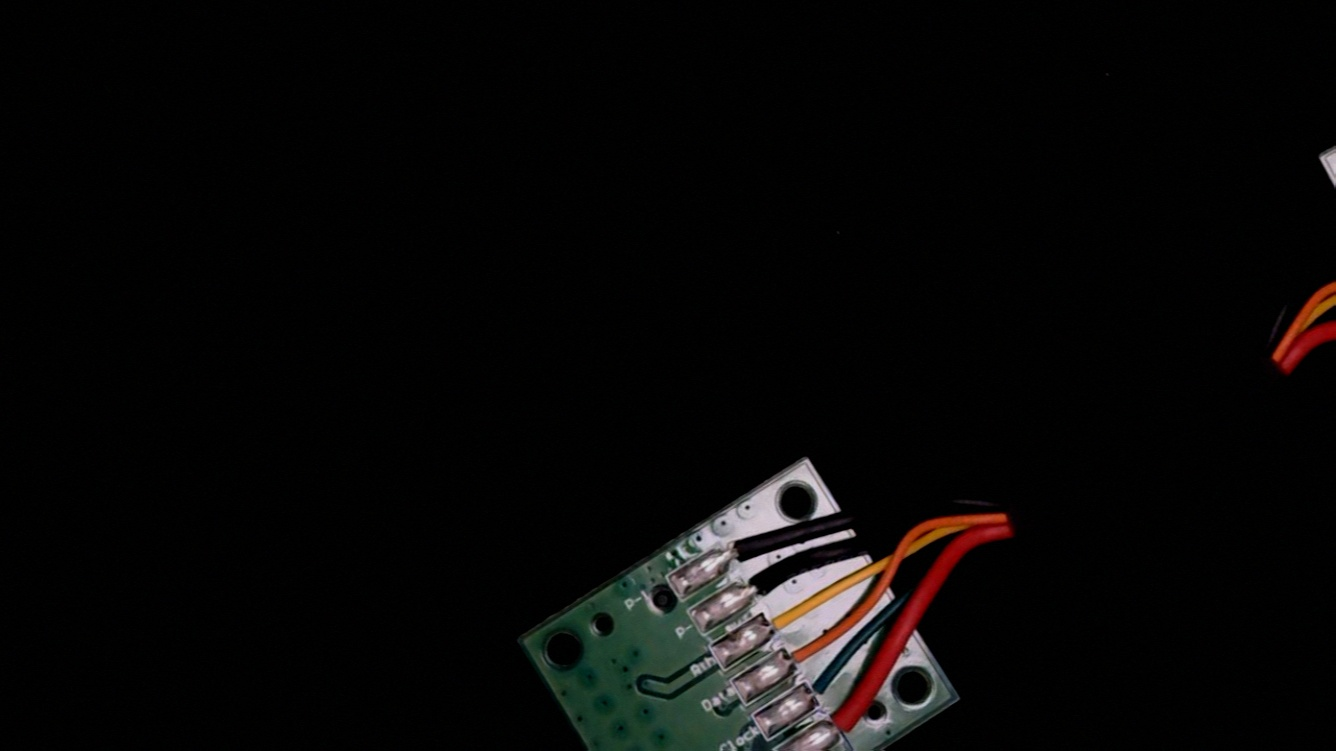Black: (725, 552, 803, 616)
Black1: (703, 517, 781, 582)
Green: (787, 656, 861, 720)
Orange: (762, 620, 844, 686)
Red: (810, 688, 891, 751)
Yellow: (743, 584, 828, 653)
